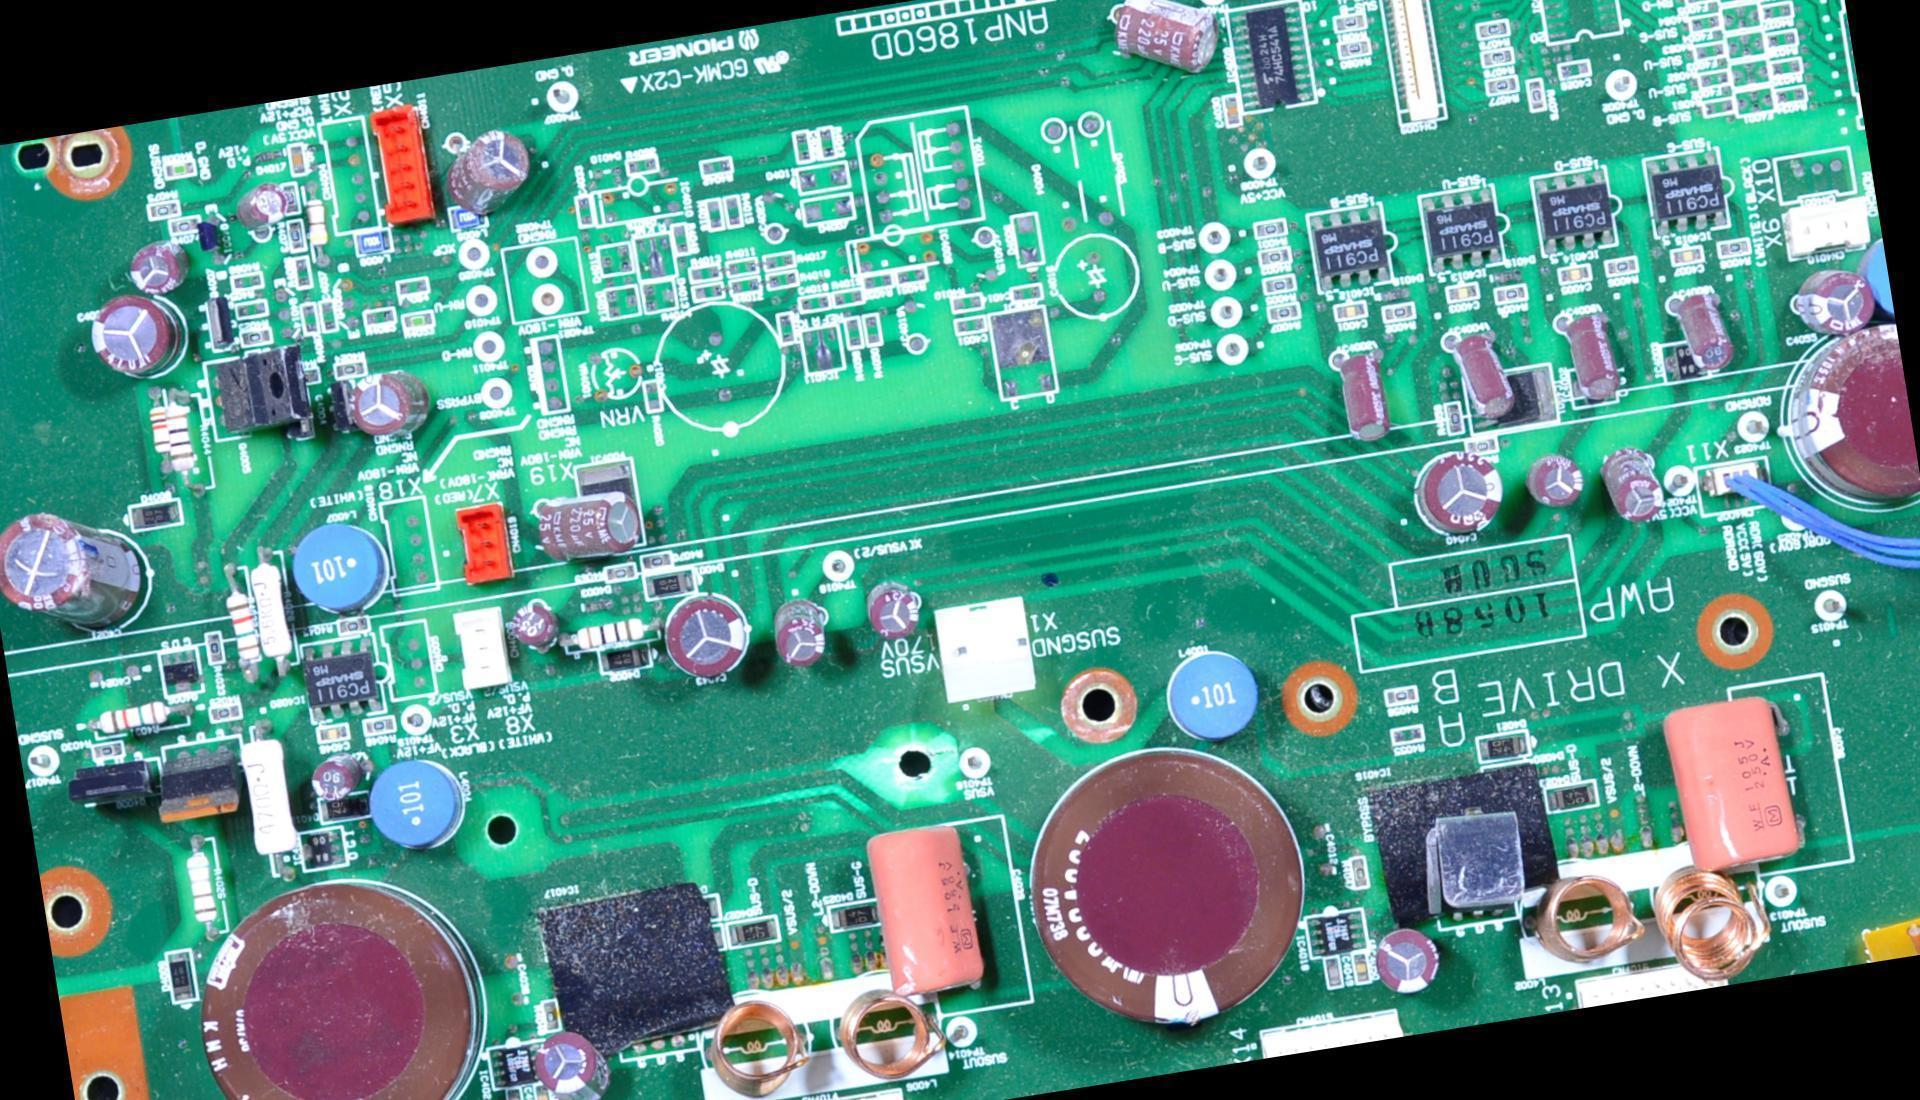Capacitor: (1016, 734, 1325, 1045), (190, 871, 483, 1099), (1791, 326, 1919, 513), (865, 822, 995, 989), (0, 502, 147, 635), (1107, 0, 1232, 107), (84, 293, 192, 386), (659, 587, 758, 684), (444, 131, 547, 216), (534, 484, 643, 564), (1420, 447, 1513, 542), (1051, 230, 1140, 322), (1597, 441, 1686, 526), (342, 361, 434, 444), (1554, 301, 1629, 401), (1336, 346, 1405, 448), (1454, 326, 1517, 424), (1795, 266, 1879, 336), (535, 1028, 612, 1099), (771, 592, 841, 670), (1674, 285, 1734, 373), (1374, 925, 1448, 996), (860, 568, 921, 642), (129, 234, 197, 296), (1524, 452, 1594, 510), (307, 748, 370, 805), (506, 596, 564, 653), (234, 181, 287, 232), (1311, 823, 1333, 876), (317, 725, 349, 745), (1352, 951, 1372, 983), (574, 195, 594, 227), (1325, 957, 1344, 990), (319, 300, 337, 332), (1011, 283, 1044, 302), (956, 317, 989, 335), (1447, 283, 1479, 302), (800, 294, 832, 313), (1559, 266, 1591, 283), (1224, 96, 1242, 127), (404, 311, 434, 329), (364, 308, 395, 325), (794, 133, 811, 162), (1337, 304, 1366, 320), (1671, 249, 1701, 264), (1561, 62, 1589, 77), (534, 1083, 553, 1099), (505, 1088, 526, 1099)
Connector: (1369, 0, 1448, 127), (370, 105, 437, 225), (1575, 958, 1727, 1008), (318, 117, 380, 236), (1259, 1009, 1405, 1058), (380, 497, 440, 594), (1785, 198, 1871, 259), (455, 502, 514, 584), (1697, 457, 1774, 517), (454, 606, 509, 688), (764, 1087, 910, 1099)
IC: (534, 883, 735, 1064), (1366, 761, 1566, 931), (1226, 0, 1317, 115), (1530, 165, 1619, 256), (1418, 184, 1506, 276), (1643, 147, 1729, 240), (1308, 206, 1391, 289), (300, 637, 381, 722), (1530, 0, 1623, 46), (1305, 908, 1368, 958), (488, 1043, 540, 1088), (800, 326, 844, 372), (300, 827, 346, 871), (580, 461, 636, 494), (1662, 341, 1704, 381)
Resistor: (237, 722, 300, 859), (148, 385, 208, 498), (248, 558, 293, 662), (182, 835, 226, 935), (219, 563, 261, 666), (87, 698, 191, 738), (561, 616, 656, 652), (300, 179, 334, 262), (1332, 12, 1367, 34), (832, 287, 865, 308), (363, 715, 396, 736), (287, 143, 307, 177), (204, 631, 224, 665), (90, 742, 124, 763), (286, 218, 305, 253), (281, 182, 300, 215), (239, 327, 271, 347), (690, 263, 722, 282), (766, 270, 799, 290), (604, 562, 637, 581), (148, 200, 180, 220), (1338, 40, 1370, 59), (626, 155, 658, 176), (235, 299, 267, 319), (642, 381, 662, 413), (1392, 726, 1424, 745), (294, 256, 312, 289), (707, 197, 725, 229), (762, 252, 795, 270), (1385, 687, 1417, 705), (169, 217, 201, 236), (672, 224, 691, 256), (301, 305, 319, 336), (726, 258, 758, 277), (642, 552, 675, 570), (863, 314, 881, 344), (338, 617, 369, 635), (232, 274, 262, 291), (897, 268, 927, 285), (952, 294, 983, 311), (1445, 402, 1463, 432), (1351, 856, 1367, 887), (1605, 258, 1636, 274), (210, 705, 241, 721), (1487, 77, 1517, 94), (1528, 80, 1545, 109), (730, 278, 760, 296), (1256, 220, 1284, 237), (1259, 249, 1289, 266), (1719, 240, 1748, 257), (1765, 32, 1795, 48), (862, 274, 893, 290), (1495, 286, 1526, 302), (1479, 21, 1508, 37), (1484, 51, 1513, 67), (1771, 61, 1800, 76), (846, 317, 862, 346), (819, 127, 834, 157), (702, 158, 731, 173), (1777, 87, 1807, 102), (725, 198, 740, 226), (1764, 4, 1791, 19), (1696, 43, 1722, 58), (1701, 73, 1727, 87), (1266, 278, 1293, 292), (1269, 305, 1296, 318), (1385, 306, 1412, 319), (1692, 16, 1717, 30), (1706, 101, 1733, 114)
Transistor: (1651, 682, 1820, 878), (211, 348, 312, 440), (160, 647, 204, 696)
